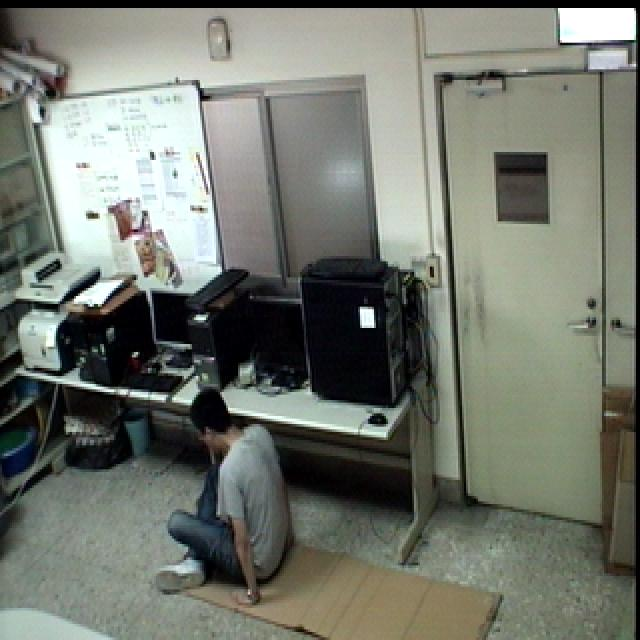sit: (149, 384, 296, 610)
